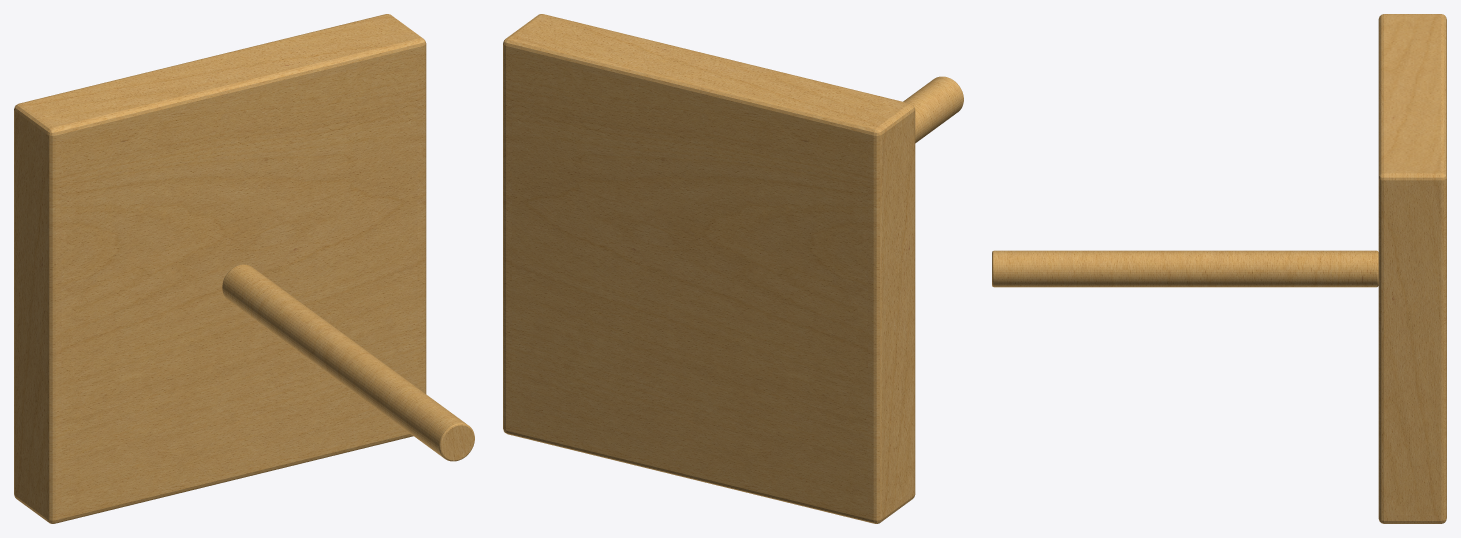
3 views of the same model, side by side, from view 1: azimuth 30°, elevation 25°; view 2: azimuth 150°, elevation 25°; view 3: azimuth 270°, elevation 25° (orthographic). The views are drawn at different scales.
Visible parts, largest first — view 1: washer_target_fixture; view 2: washer_target_fixture; view 3: washer_target_fixture.
Boxes of the visible parts, bbox=[...] form: washer_target_fixture: bbox=[14, 14, 474, 523]; washer_target_fixture: bbox=[503, 14, 963, 523]; washer_target_fixture: bbox=[992, 14, 1446, 523].
Bounding box in the file's own units: 0.085 × 0.085 × 0.1.
1 material, 1 textured.
